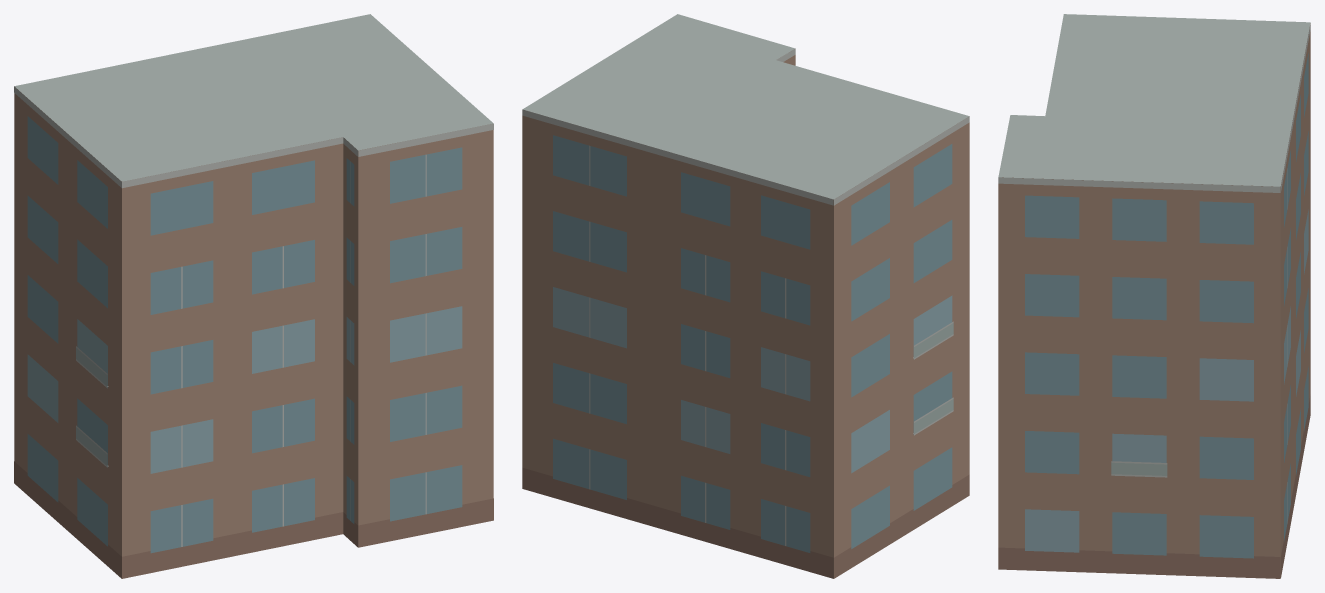
Rendered from survey-upis-32479991.glb.
The picture shows the model from 3 angles, left to right: view 1: azimuth 30°, elevation 25°; view 2: azimuth 150°, elevation 25°; view 3: azimuth 270°, elevation 25°; orthographic projection. The views are drawn at different scales.
Parts seen in each view (by area): view 1: survey-upis-32479991.tmp; view 2: survey-upis-32479991.tmp; view 3: survey-upis-32479991.tmp.
Boxes of the visible parts, x1,y1,x2,y2 form: survey-upis-32479991.tmp: (14,14,493,578); survey-upis-32479991.tmp: (522,14,969,578); survey-upis-32479991.tmp: (998,14,1310,578).
Bounding box in the file's own units: 14.18 × 15.01 × 10.84.
